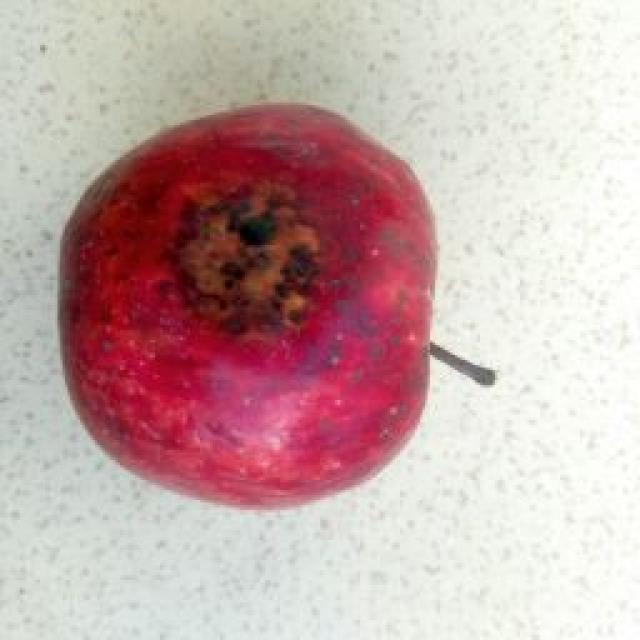Bad_Apple: (60, 104, 436, 508)
